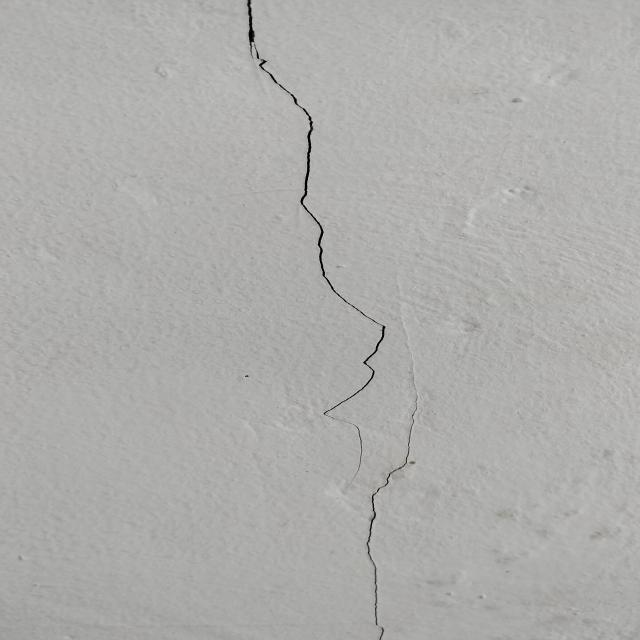Crack: (230, 2, 438, 640)
